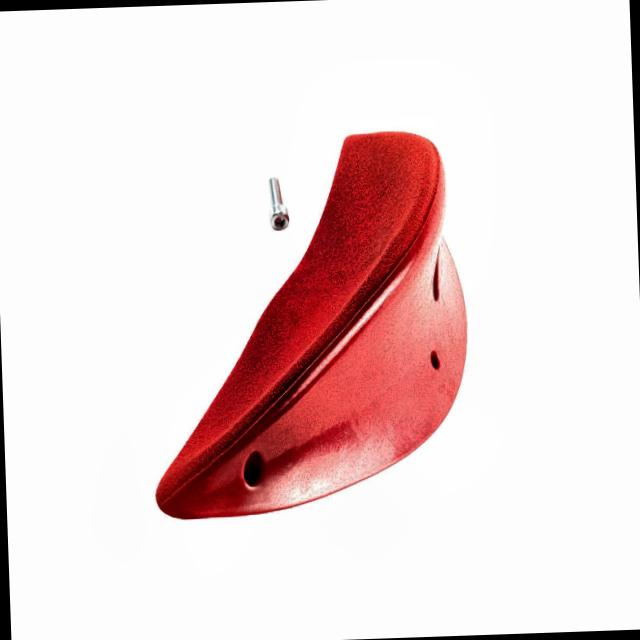Hold: (144, 116, 479, 518)
